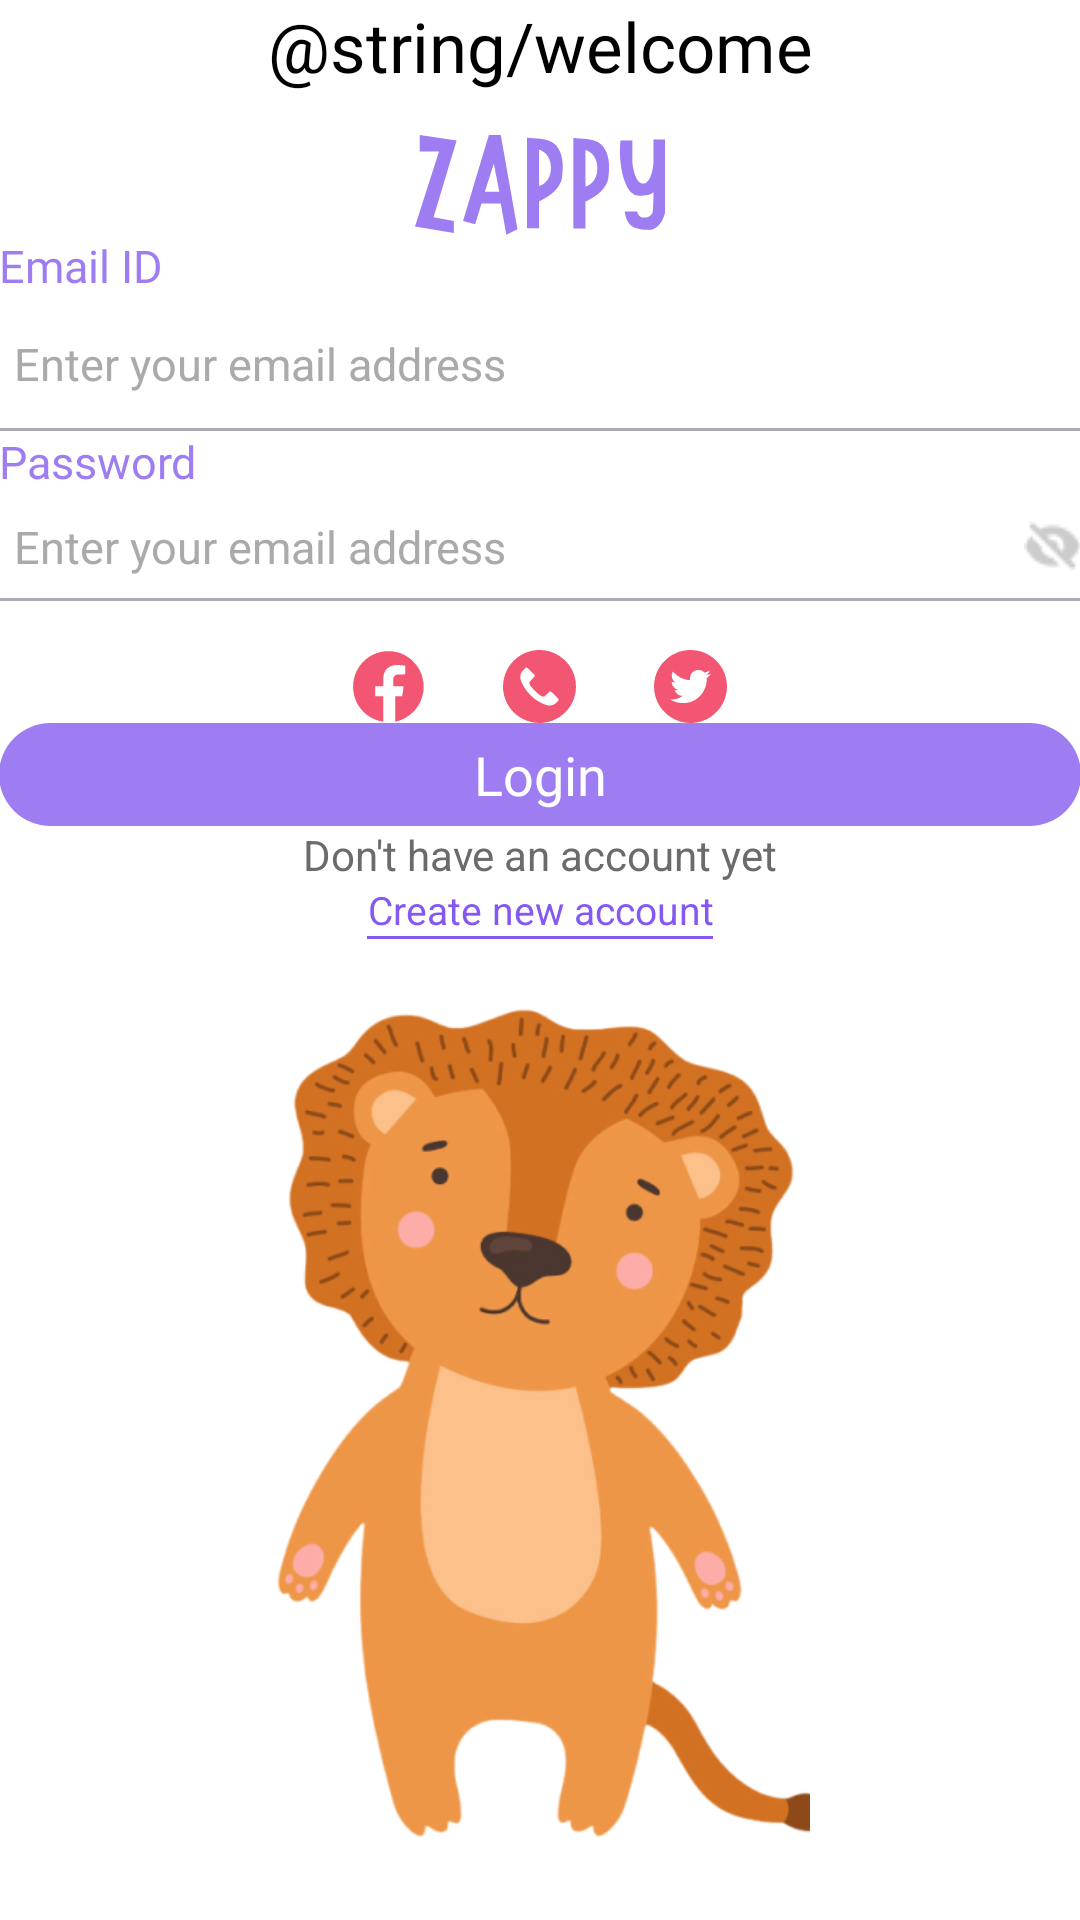

Point at icon controls on the screen. Image size 1080*1920, points as [x,y].
eye close: [1052,546]
phone: [539,686]
